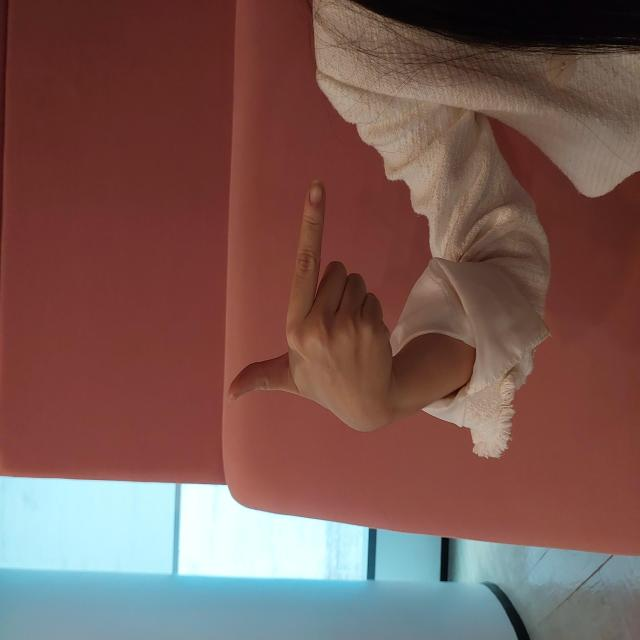G: (207, 229, 462, 392)
